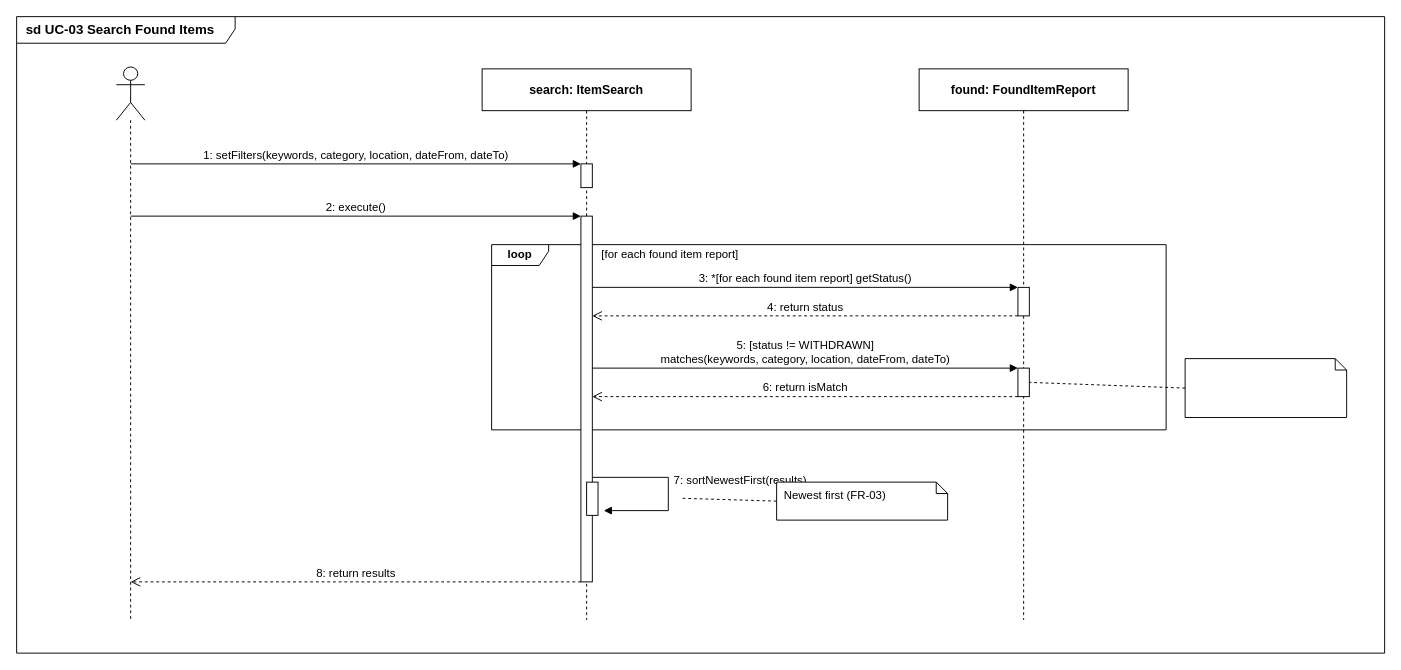
Some shapes in this 1401 by 670 pixel diagram are drawn without their labels. Here are the shapes that lost their labels. From the top down, the box of each, then its label:
(115, 66, 145, 620): Item Owner
(1184, 358, 1347, 418): [isMatch = true] the report is added to results
